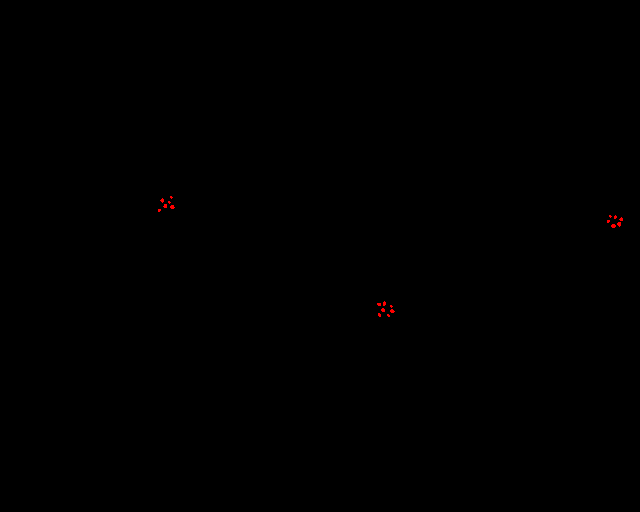Target: (160, 198, 164, 203), (170, 205, 175, 209), (617, 222, 621, 227), (611, 224, 616, 228), (390, 309, 395, 313), (163, 204, 167, 208), (619, 217, 623, 221), (381, 308, 385, 312), (383, 301, 386, 306), (614, 215, 617, 219), (377, 303, 381, 306), (378, 313, 381, 317), (170, 196, 173, 199), (168, 201, 171, 204), (158, 209, 161, 212), (609, 215, 612, 218), (607, 220, 610, 223), (390, 305, 393, 308), (387, 314, 390, 317)
